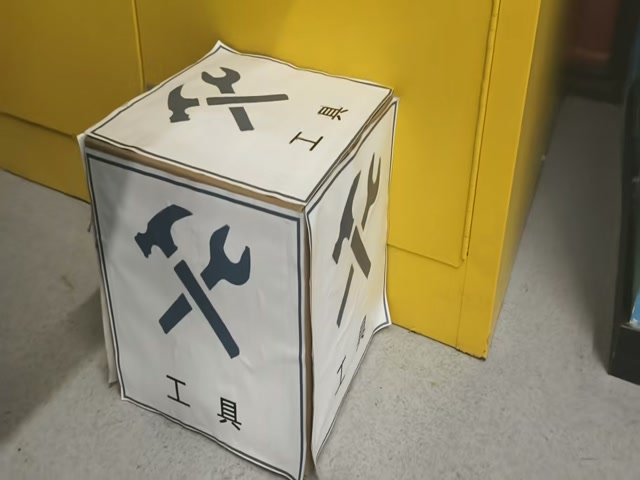Cube_tool: (79, 37, 390, 214)
